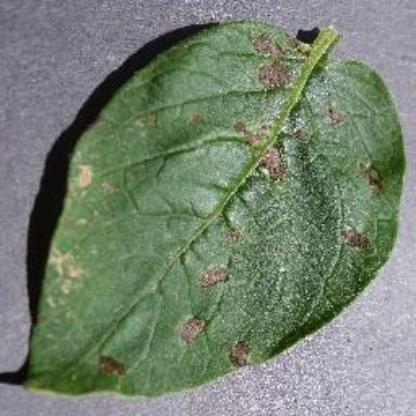Early-Blight: (21, 24, 407, 404)
